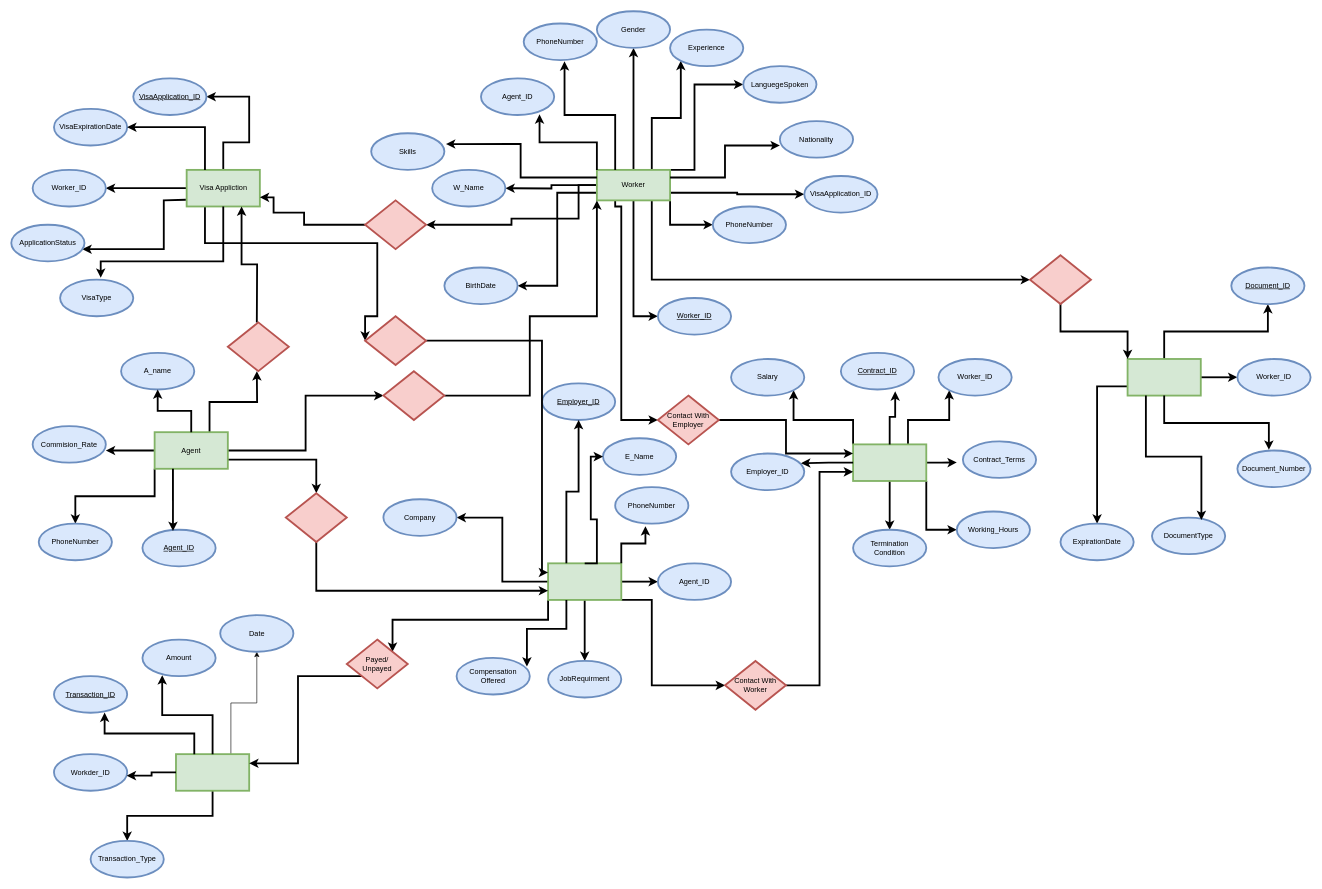
The diagram is 1322 pixels wide and 889 high, and some of its shapes have lost their labels. The centre of each missing label's shape, as x and y in pixels:
"Contract" belongs at [889,462].
"Create" belongs at [258,346].
"created up request of" belongs at [395,340].
"Creates" belongs at [1060,279].
"Document" belongs at [1163,377].
"Employer" belongs at [584,581].
"Have" belongs at [395,224].
"Payment Transaction" belongs at [212,772].
"Recruit" belongs at [413,395].
"Worker Employment" belongs at [316,517].
